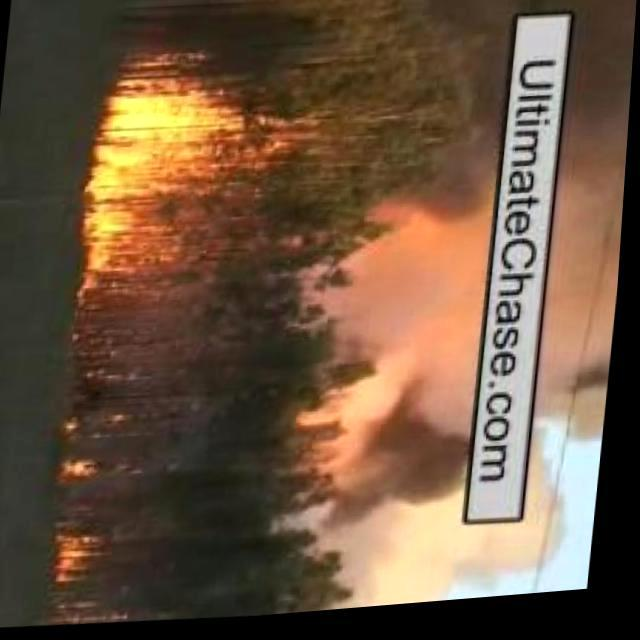fire: (80, 79, 236, 293), (58, 532, 120, 588), (66, 453, 116, 482)
